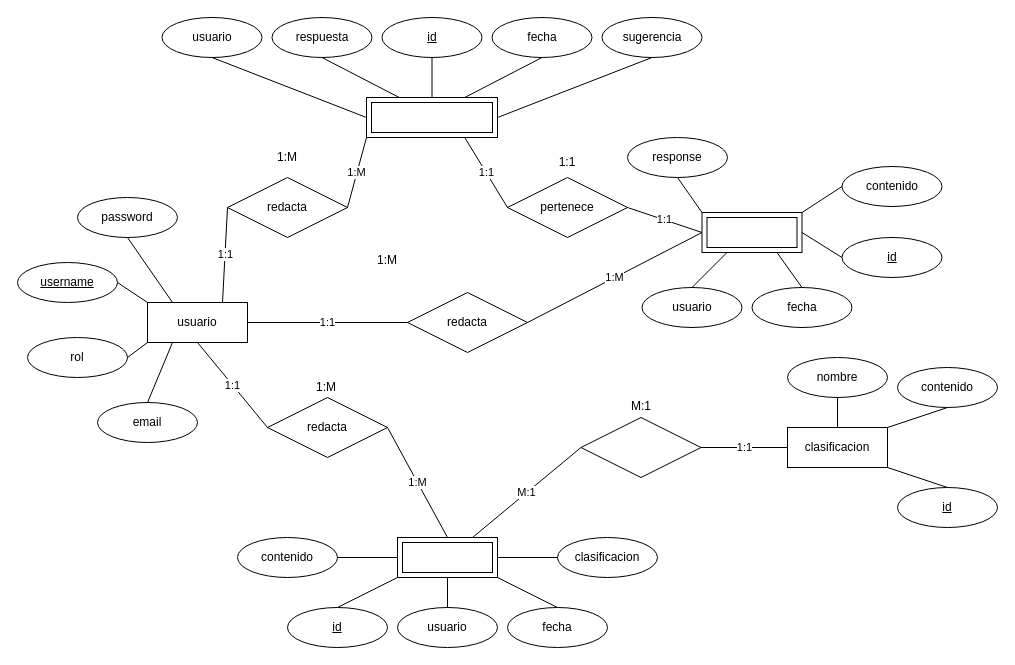
This 1015x665 diagram has some shape labels left out. The centre of each missing label's shape, as x and y in pixels:
comentarios: the point at 447,557
corresponde: the point at 640,447
respuestaSugerencia: the point at 432,117
sugerencias: the point at 751,232
